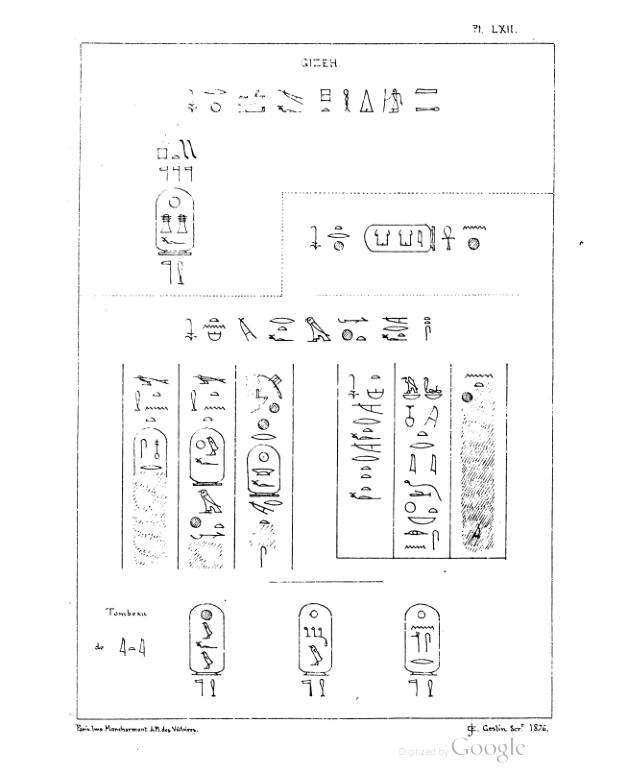circle: (397, 599, 447, 679), (184, 599, 230, 678), (291, 597, 335, 679), (151, 184, 197, 260), (359, 218, 442, 259), (188, 425, 225, 490), (242, 443, 285, 497), (133, 425, 170, 479)
